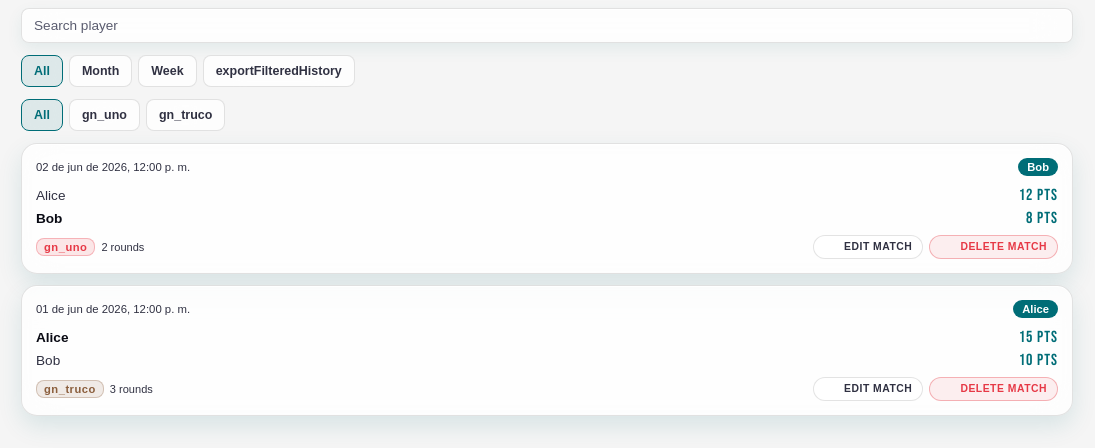
GlobalHistoryPage › legacy matches without a game field still render and are filterable (#18)
Expected: the element with test id "match-legacy-m1" is shown, top-left (21, 285), bottom-right (1073, 416)
Expected: the element with test id "match-legacy-m1" shows "Alice", top-left (1022, 303), bottom-right (1049, 315)
Click the button with test id "history-filter-game-truco" at x=186, y=115, box top-left (146, 99), bottom-right (225, 131)
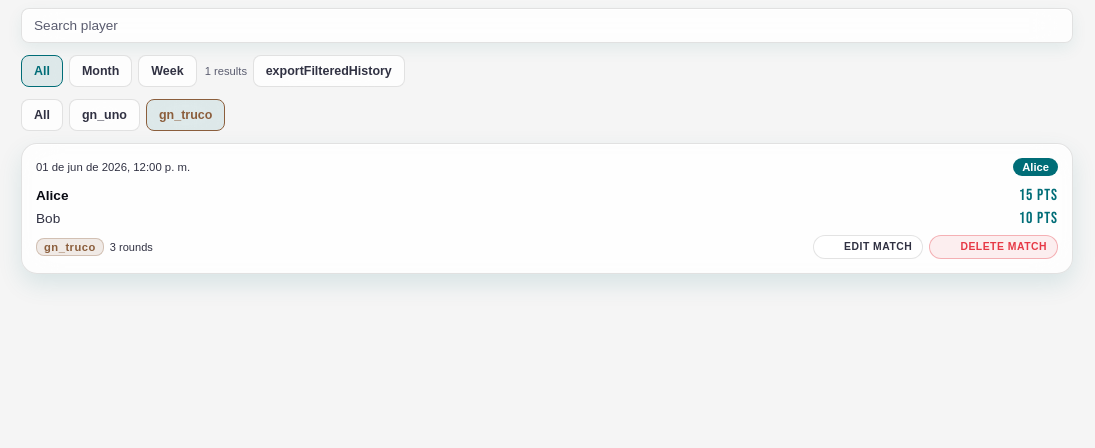
Expected: the element with test id "match-legacy-m1" is shown, top-left (21, 143), bottom-right (1073, 274)
Result: the element with test id "match-new-m2" is gone
